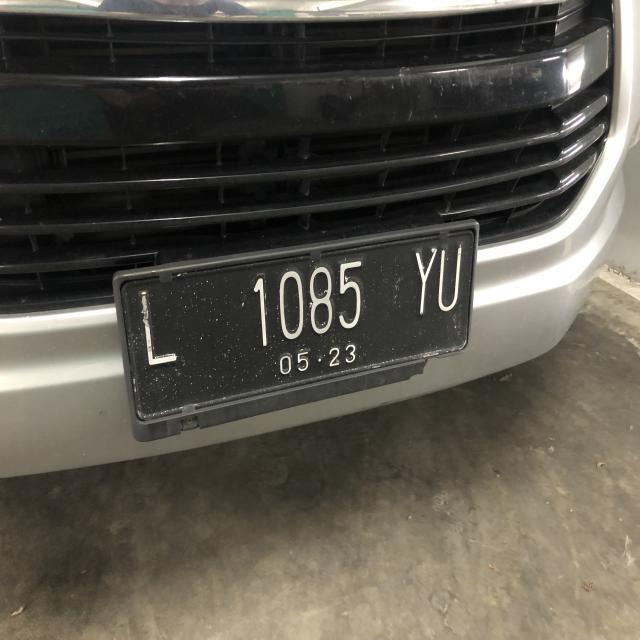0: (276, 269, 308, 342)
1: (253, 271, 273, 353)
5: (340, 254, 370, 332)
8: (310, 260, 334, 334)
L: (134, 288, 179, 372)
U: (437, 242, 464, 314)
Y: (413, 245, 437, 318)
